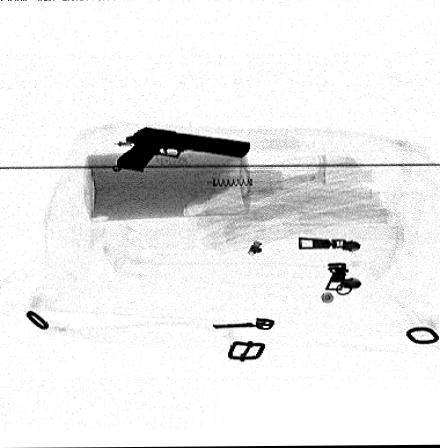Gun: (115, 128, 253, 175)
